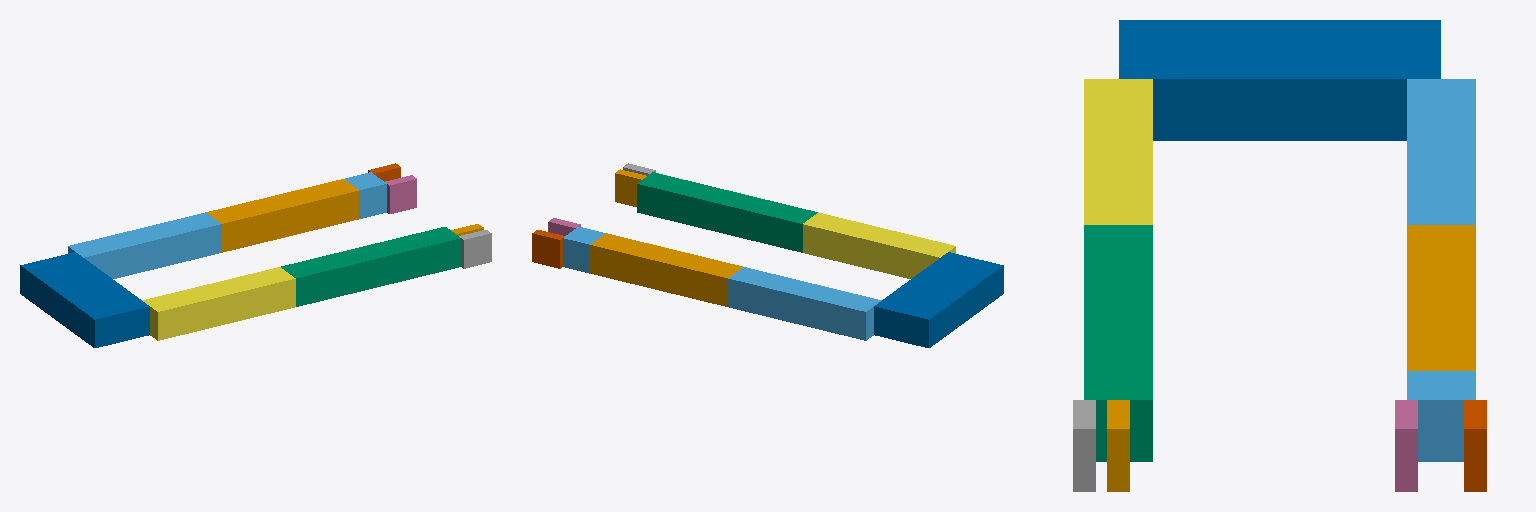
robot.urdf — arms:
<?xml version="1.0"?>
<robot name="arms">
	<link name = "left_forearm">
		<visual>
			<geometry>
				<box size="0.15  0.03  0.03"/>
			</geometry>
			<origin rpy="0 0 0" xyz="0.075 0 0"/>
		</visual>
	</link>
	<link name = "left_backarm">
		<visual>
			<geometry>
				<box size="0.15  0.03  0.03"/>
			</geometry>
			<origin rpy="0 0 0" xyz="0.075 0 0"/>
		</visual>
	</link>
	<link name = "right_forearm">
		<visual>
			<geometry>
				<box size="0.15  0.03  0.03"/>
			</geometry>
			<origin rpy="0 0 0" xyz="0.075  0  0"/>
		</visual>
	</link>
	<link name = "right_backarm">
		<visual>
			<geometry>
				<box size="0.15  0.03  0.03"/>
			</geometry>
			<origin rpy="0 0 0" xyz="0.075 0 0"/>
		</visual>
	</link>
	<link name = "base_link">
		<visual>
			<geometry>
				<box size="0.06  0.14  0.03"/>
			</geometry>
			<origin rpy="0 0 0" xyz="-0.03  0  0"/>
		</visual>
	</link>
	<link name = "left_fingers">
		<visual>
			<geometry>
				<box size="0.03  0.01  0.03"/>
			</geometry>
			<origin rpy="0 0 0" xyz="0.015  0  0"/>
		</visual>
	</link>
	<link name = "left_thumb">
		<visual>
			<geometry>
				<box size="0.03  0.01  0.03"/>
			</geometry>
			<origin rpy="0 0 0" xyz="0.015  0  0"/>
		</visual>
	</link>
	<link name = "right_fingers">
		<visual>
			<geometry>
				<box size="0.03  0.01  0.03"/>
			</geometry>
			<origin rpy="0 0 0" xyz="0.015  0  0"/>
		</visual>
	</link>
	<link name = "right_thumb">
		<visual>
			<geometry>
				<box size="0.03  0.01  0.03"/>
			</geometry>
			<origin rpy="0 0 0" xyz="0.015  0  0"/>
		</visual>
	</link>
	<link name = "left_wrist">
		<visual>
			<geometry>
				<box size="0.03  0.03  0.03"/>
			</geometry>
			<origin rpy="0 0 0" xyz="0.015 0 0"/>
		</visual>
	</link>
	<link name = "right_wrist">
		<visual>
			<geometry>
				<box size="0.03  0.03  0.03"/>
			</geometry>
			<origin rpy="0 0 0" xyz="0.015 0 0"/>
		</visual>
	</link>
	<joint name="right_shoulder" type="revolute">
		<axis xyz="0 0 1"/>
		<limit effort="1000.0" lower="-0.6" upper="0.6" velocity="0.5"/>
		<parent link="base_link"/>
		<child link="right_backarm"/>
		<origin xyz="0 -0.07 0"/>
	</joint>
	<joint name="left_shoulder" type="revolute">
		<axis xyz="0 0 1"/>
		<limit effort="1000.0" lower="-0.6" upper="0.6" velocity="0.5"/>
		<parent link="base_link"/>
		<child link="left_backarm"/>
		<origin xyz="0 0.07 0"/>
	</joint>
	<joint name="right_elbow" type="revolute">
		<axis xyz="0 0 1"/>
		<limit effort="1000.0" lower="-0.8" upper="0.8" velocity="0.5"/>
		<parent link="right_backarm"/>
		<child link="right_forearm"/>
		<origin xyz="0.15 0 0"/>
	</joint>
	<joint name="left_elbow" type="revolute">
		<axis xyz="0 0 1"/>
		<limit effort="1000.0" lower="-0.8" upper="0.8" velocity="0.5"/>
		<parent link="left_backarm"/>
		<child link="left_forearm"/>
		<origin xyz="0.15 0 0"/>
	</joint>
	<joint name="left_wrist_joint" type="revolute">
		<axis xyz="0 0 1"/>
		<limit effort="1000.0" lower="-0.8" upper="0.2" velocity="0.5"/>
		<parent link="left_forearm"/>
		<child link="left_wrist"/>
		<origin xyz="0.15 0 0"/>
	</joint>
	<joint name="right_wrist_joint" type="revolute">
		<axis xyz="0 0 1"/>
		<limit effort="1000.0" lower="-0.2" upper="0.8" velocity="0.5"/>
		<parent link="right_forearm"/>
		<child link="right_wrist"/>
		<origin xyz="0.15 0 0"/>
	</joint>
	<joint name="right_finger_joint" type="prismatic">
		<axis xyz="0 1 0"/>
		<limit effort="1000.0" lower="0" upper="0.03" velocity="0.5"/>
		<parent link="right_wrist"/>
		<child link="right_fingers"/>
		<origin xyz="0.03 -0.015 0"/>
	</joint>
	<joint name="left_finger_joint" type="prismatic">
		<axis xyz="0 1 0"/>
		<limit effort="1000.0" lower="-0.02" upper="0.0" velocity="0.5"/>
		<parent link="left_wrist"/>
		<child link="left_fingers"/>
		<origin xyz="0.03 0.015 0"/>
	</joint>
	<joint name="right_thumb_joint" type="revolute">
		<axis xyz="0 1 0"/>
		<limit effort="1000.0" lower="-0.3" upper="0.3" velocity="0.5"/>
		<parent link="right_wrist"/>
		<child link="right_thumb"/>
		<origin xyz="0.03 0 0"/>
	</joint>
	<joint name="left_thumb_joint" type="revolute">
		<axis xyz="0 1 0"/>
		<limit effort="1000.0" lower="-0.3" upper="0.3" velocity="0.5"/>
		<parent link="left_wrist"/>
		<child link="left_thumb"/>
		<origin xyz="0.03 -0.015 0"/>
	</joint>
	<gazebo>
		<plugin name="gazebo_ros_control" filename="libgazebo_ros_control.so">
			<robotNamespace>/</robotNamespace>
		</plugin>
	</gazebo>
</robot>

--- Render facts (derived) ---
3 views of the same robot in one strip: view 1: azimuth 30°, elevation 25°; view 2: azimuth 150°, elevation 25°; view 3: azimuth 270°, elevation 25° (orthographic).
Model arms with 11 links and 10 joints (8 revolute, 2 prismatic), rooted at base_link, posed every joint at zero.
Links seen in each view (by area): view 1: base_link, right_backarm, right_forearm, left_forearm, left_backarm, left_wrist, right_wrist, right_fingers, left_thumb; view 2: base_link, left_backarm, left_forearm, right_forearm, right_backarm, right_wrist, left_wrist, left_fingers, right_thumb; view 3: base_link, left_forearm, left_backarm, right_forearm, right_backarm, left_wrist, right_wrist, left_fingers, left_thumb, right_fingers, right_thumb.
Boxes of the visible links, x1,y1,x2,y2 form: base_link: (20,252,149,347); right_backarm: (142,267,295,340); right_forearm: (281,233,433,306); left_forearm: (206,179,358,252); left_backarm: (68,212,220,278); left_wrist: (344,172,386,218); right_wrist: (418,227,460,273); right_fingers: (459,230,491,268); left_thumb: (385,175,416,213); base_link: (874,252,1003,347); left_backarm: (728,267,881,340); left_forearm: (590,233,742,306); right_forearm: (665,179,817,252); right_backarm: (803,212,955,278); right_wrist: (637,172,679,218); left_wrist: (563,227,605,273); left_fingers: (532,230,564,268); right_thumb: (615,169,646,206); base_link: (1119,20,1440,140); left_forearm: (1407,225,1475,370); left_backarm: (1407,79,1475,224); right_forearm: (1084,225,1152,370); right_backarm: (1084,79,1152,224); left_wrist: (1407,371,1475,461); right_wrist: (1084,371,1152,461); left_fingers: (1464,400,1486,491); left_thumb: (1395,400,1417,491); right_fingers: (1073,400,1095,491); right_thumb: (1107,400,1129,491).
Bounding box of the posed robot: 0.42 × 0.18 × 0.03 m (x, y, z).
Geometry: primitives only (box / cylinder / sphere), no mesh files.